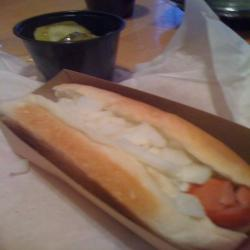hotdog: (5, 70, 250, 249)
